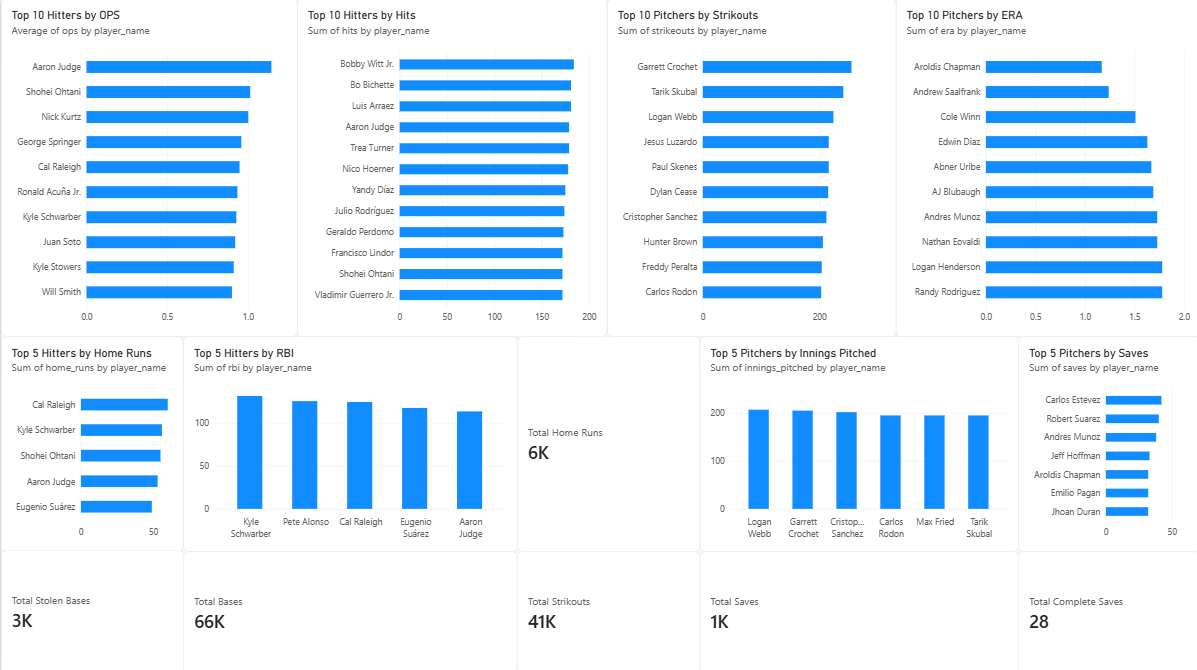

What the dashboard file says about the page in this screenshot:
{"tool":"powerbi","page":{"name":"Page 1","canvas":[1920,1080],"ordinal":0},"visuals":[{"type":"clusteredBarChart","title":"Top 10 Hitters by OPS","fields":{"Category":["public batting_stats.player_name"],"Y":["Avg(public batting_stats.ops)"]},"box":[0,0,474,540],"z":0},{"type":"clusteredBarChart","title":"Top 5 Hitters by Home Runs","fields":{"Category":["public batting_stats.player_name"],"Y":["Sum(public batting_stats.home_runs)"]},"box":[0,540,292,344],"z":1},{"type":"clusteredBarChart","title":"Top 10 Hitters by Hits","fields":{"Category":["public batting_stats.player_name"],"Y":["Sum(public batting_stats.hits)"]},"box":[474,0,496,540],"z":2},{"type":"clusteredBarChart","title":"Top 10 Pitchers by Strikouts","fields":{"Category":["public pitching_stats.player_name"],"Y":["Sum(public pitching_stats.strikeouts)"]},"box":[970,0,462,540],"z":3},{"type":"clusteredBarChart","title":"Top 10 Pitchers by ERA","fields":{"Category":["public pitching_stats.player_name"],"Y":["Sum(public pitching_stats.era)"]},"box":[1432,0,488,540],"z":4},{"type":"clusteredBarChart","title":"Top 5 Pitchers by Saves","fields":{"Category":["public pitching_stats.player_name"],"Y":["Sum(public pitching_stats.saves)"]},"box":[1628,540,292,344],"z":5},{"type":"clusteredColumnChart","title":"Top 5 Pitchers by Innings Pitched","fields":{"Category":["public pitching_stats.player_name"],"Y":["Sum(public pitching_stats.innings_pitched)"]},"box":[1118,540,510,344],"z":6},{"type":"clusteredColumnChart","title":"Top 5 Hitters by RBI","fields":{"Category":["public batting_stats.player_name"],"Y":["Sum(public batting_stats.rbi)"]},"box":[292,540,534,344],"z":7},{"type":"cardVisual","title":"Total Home Runs","fields":{"Data":["Sum(public batting_stats.home_runs)"]},"box":[826,540,292,344],"z":8},{"type":"cardVisual","fields":{"Data":["Sum(public batting_stats.stolen_bases)"]},"box":[0,882,292,198],"z":9},{"type":"cardVisual","fields":{"Data":["Sum(public batting_stats.total_bases)"]},"box":[292,884,534,196],"z":10},{"type":"cardVisual","fields":{"Data":["Sum(public batting_stats.strikeouts)"]},"box":[826,884,292,196],"z":11},{"type":"cardVisual","fields":{"Data":["Sum(public pitching_stats.saves)"]},"box":[1118,884,510,196],"z":12},{"type":"cardVisual","fields":{"Data":["Sum(public pitching_stats.complete_games)"]},"box":[1628,884,292,196],"z":13}]}

Visuals, with their boxes in screenshot pixels (x1, y1, x2, y2), scaled from the page's 1920x1080 canvas onto the 1197x670 screenshot:
"Top 10 Hitters by OPS" clusteredBarChart: l=0, t=0, r=296, b=335
"Top 5 Hitters by Home Runs" clusteredBarChart: l=0, t=335, r=182, b=548
"Top 10 Hitters by Hits" clusteredBarChart: l=296, t=0, r=605, b=335
"Top 10 Pitchers by Strikouts" clusteredBarChart: l=605, t=0, r=893, b=335
"Top 10 Pitchers by ERA" clusteredBarChart: l=893, t=0, r=1196, b=335
"Top 5 Pitchers by Saves" clusteredBarChart: l=1015, t=335, r=1196, b=548
"Top 5 Pitchers by Innings Pitched" clusteredColumnChart: l=697, t=335, r=1015, b=548
"Top 5 Hitters by RBI" clusteredColumnChart: l=182, t=335, r=515, b=548
"Total Home Runs" cardVisual: l=515, t=335, r=697, b=548
cardVisual - Sum(public batting_stats.stolen_bases): l=0, t=547, r=182, b=669
cardVisual - Sum(public batting_stats.total_bases): l=182, t=548, r=515, b=669
cardVisual - Sum(public batting_stats.strikeouts): l=515, t=548, r=697, b=669
cardVisual - Sum(public pitching_stats.saves): l=697, t=548, r=1015, b=669
cardVisual - Sum(public pitching_stats.complete_games): l=1015, t=548, r=1196, b=669
